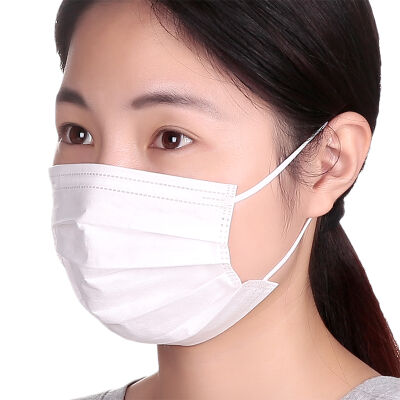face_mask: (50, 9, 278, 347)
